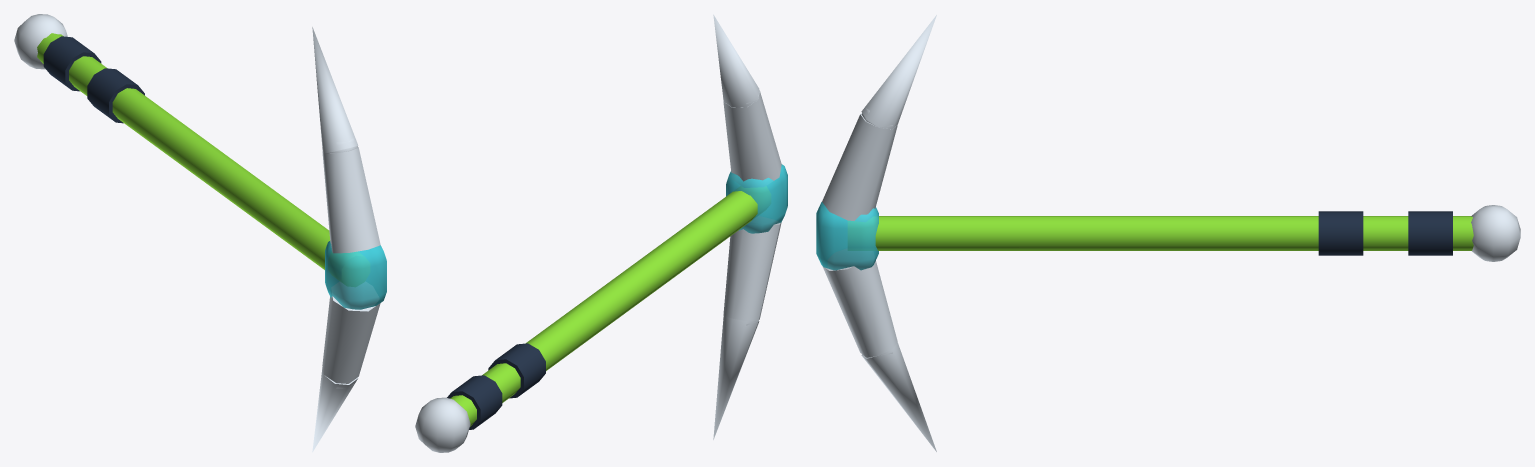
File: Pickaxe.fbx
3 renders of one model, left to right at view 1: azimuth 30°, elevation 25°; view 2: azimuth 150°, elevation 25°; view 3: azimuth 270°, elevation 25°, orthographic. The views are drawn at different scales.
Parts seen in each view (by area): view 1: Pickaxe; view 2: Pickaxe; view 3: Pickaxe.
Boxes of the visible parts, left/top/right/bottom form: Pickaxe: left=14, top=14, right=386, bottom=452; Pickaxe: left=415, top=14, right=787, bottom=452; Pickaxe: left=816, top=15, right=1520, bottom=451.
Bounding box in the file's own units: 0.064 × 0.54 × 0.7854.
